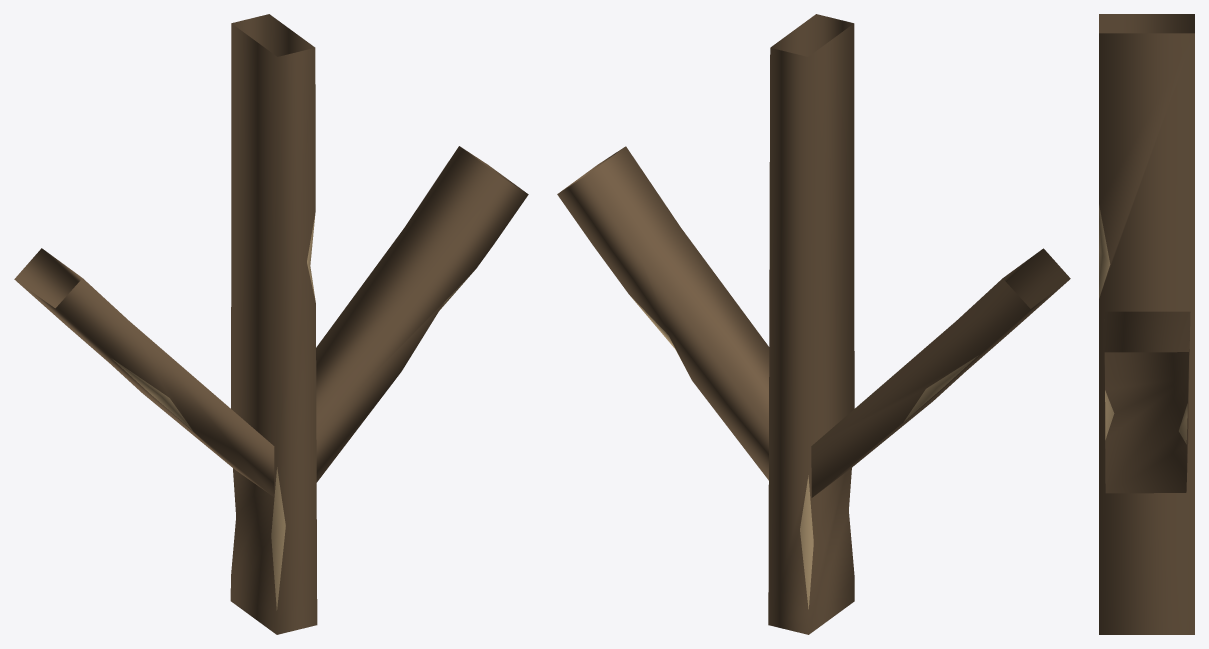
The model's file is rpgpp_ag_roof_end_01_9x4_wall_beam_a.fbx.
3 renders of one model, left to right at view 1: azimuth 30°, elevation 25°; view 2: azimuth 150°, elevation 25°; view 3: azimuth 270°, elevation 25°, orthographic. The views are drawn at different scales.
Parts seen in each view (by area): view 1: rpgpp_ag_roof_end_01_9x4_wall_beam_a; view 2: rpgpp_ag_roof_end_01_9x4_wall_beam_a; view 3: rpgpp_ag_roof_end_01_9x4_wall_beam_a.
Boxes of the visible parts, bbox=[...] form: rpgpp_ag_roof_end_01_9x4_wall_beam_a: bbox=[14, 14, 528, 634]; rpgpp_ag_roof_end_01_9x4_wall_beam_a: bbox=[557, 14, 1070, 634]; rpgpp_ag_roof_end_01_9x4_wall_beam_a: bbox=[1099, 14, 1194, 634].
Bounding box in the file's own units: 3.38 × 3.94 × 0.5692.
